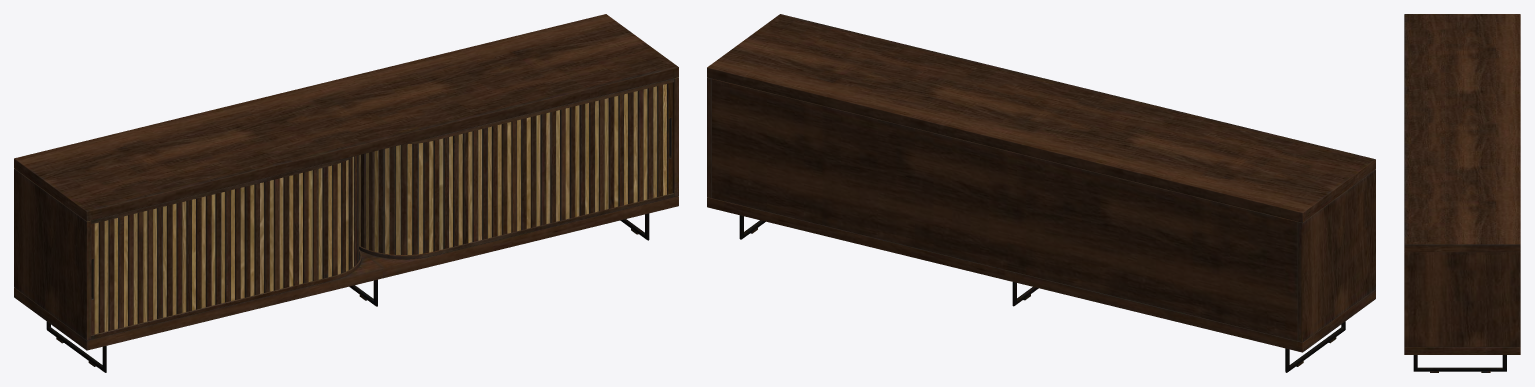
Rendered from sideboard.glb.
3 views of the same model, side by side, from view 1: azimuth 30°, elevation 25°; view 2: azimuth 150°, elevation 25°; view 3: azimuth 270°, elevation 25° (orthographic). The views are drawn at different scales.
Visible parts, largest first — view 1: modern_wooden_cabinet_body, modern_wooden_cabinet_door_r, modern_wooden_cabinet_door_l; view 2: modern_wooden_cabinet_body; view 3: modern_wooden_cabinet_body.
Boxes of the visible parts, x1,y1,x2,y2 form: modern_wooden_cabinet_body: (14,14,678,372); modern_wooden_cabinet_door_r: (359,82,672,254); modern_wooden_cabinet_door_l: (91,155,358,334); modern_wooden_cabinet_body: (707,14,1375,372); modern_wooden_cabinet_body: (1404,14,1520,372).
Bounding box in the file's own units: 2.44 × 0.6801 × 0.52.
Materials: 1 (1 with a texture image).
